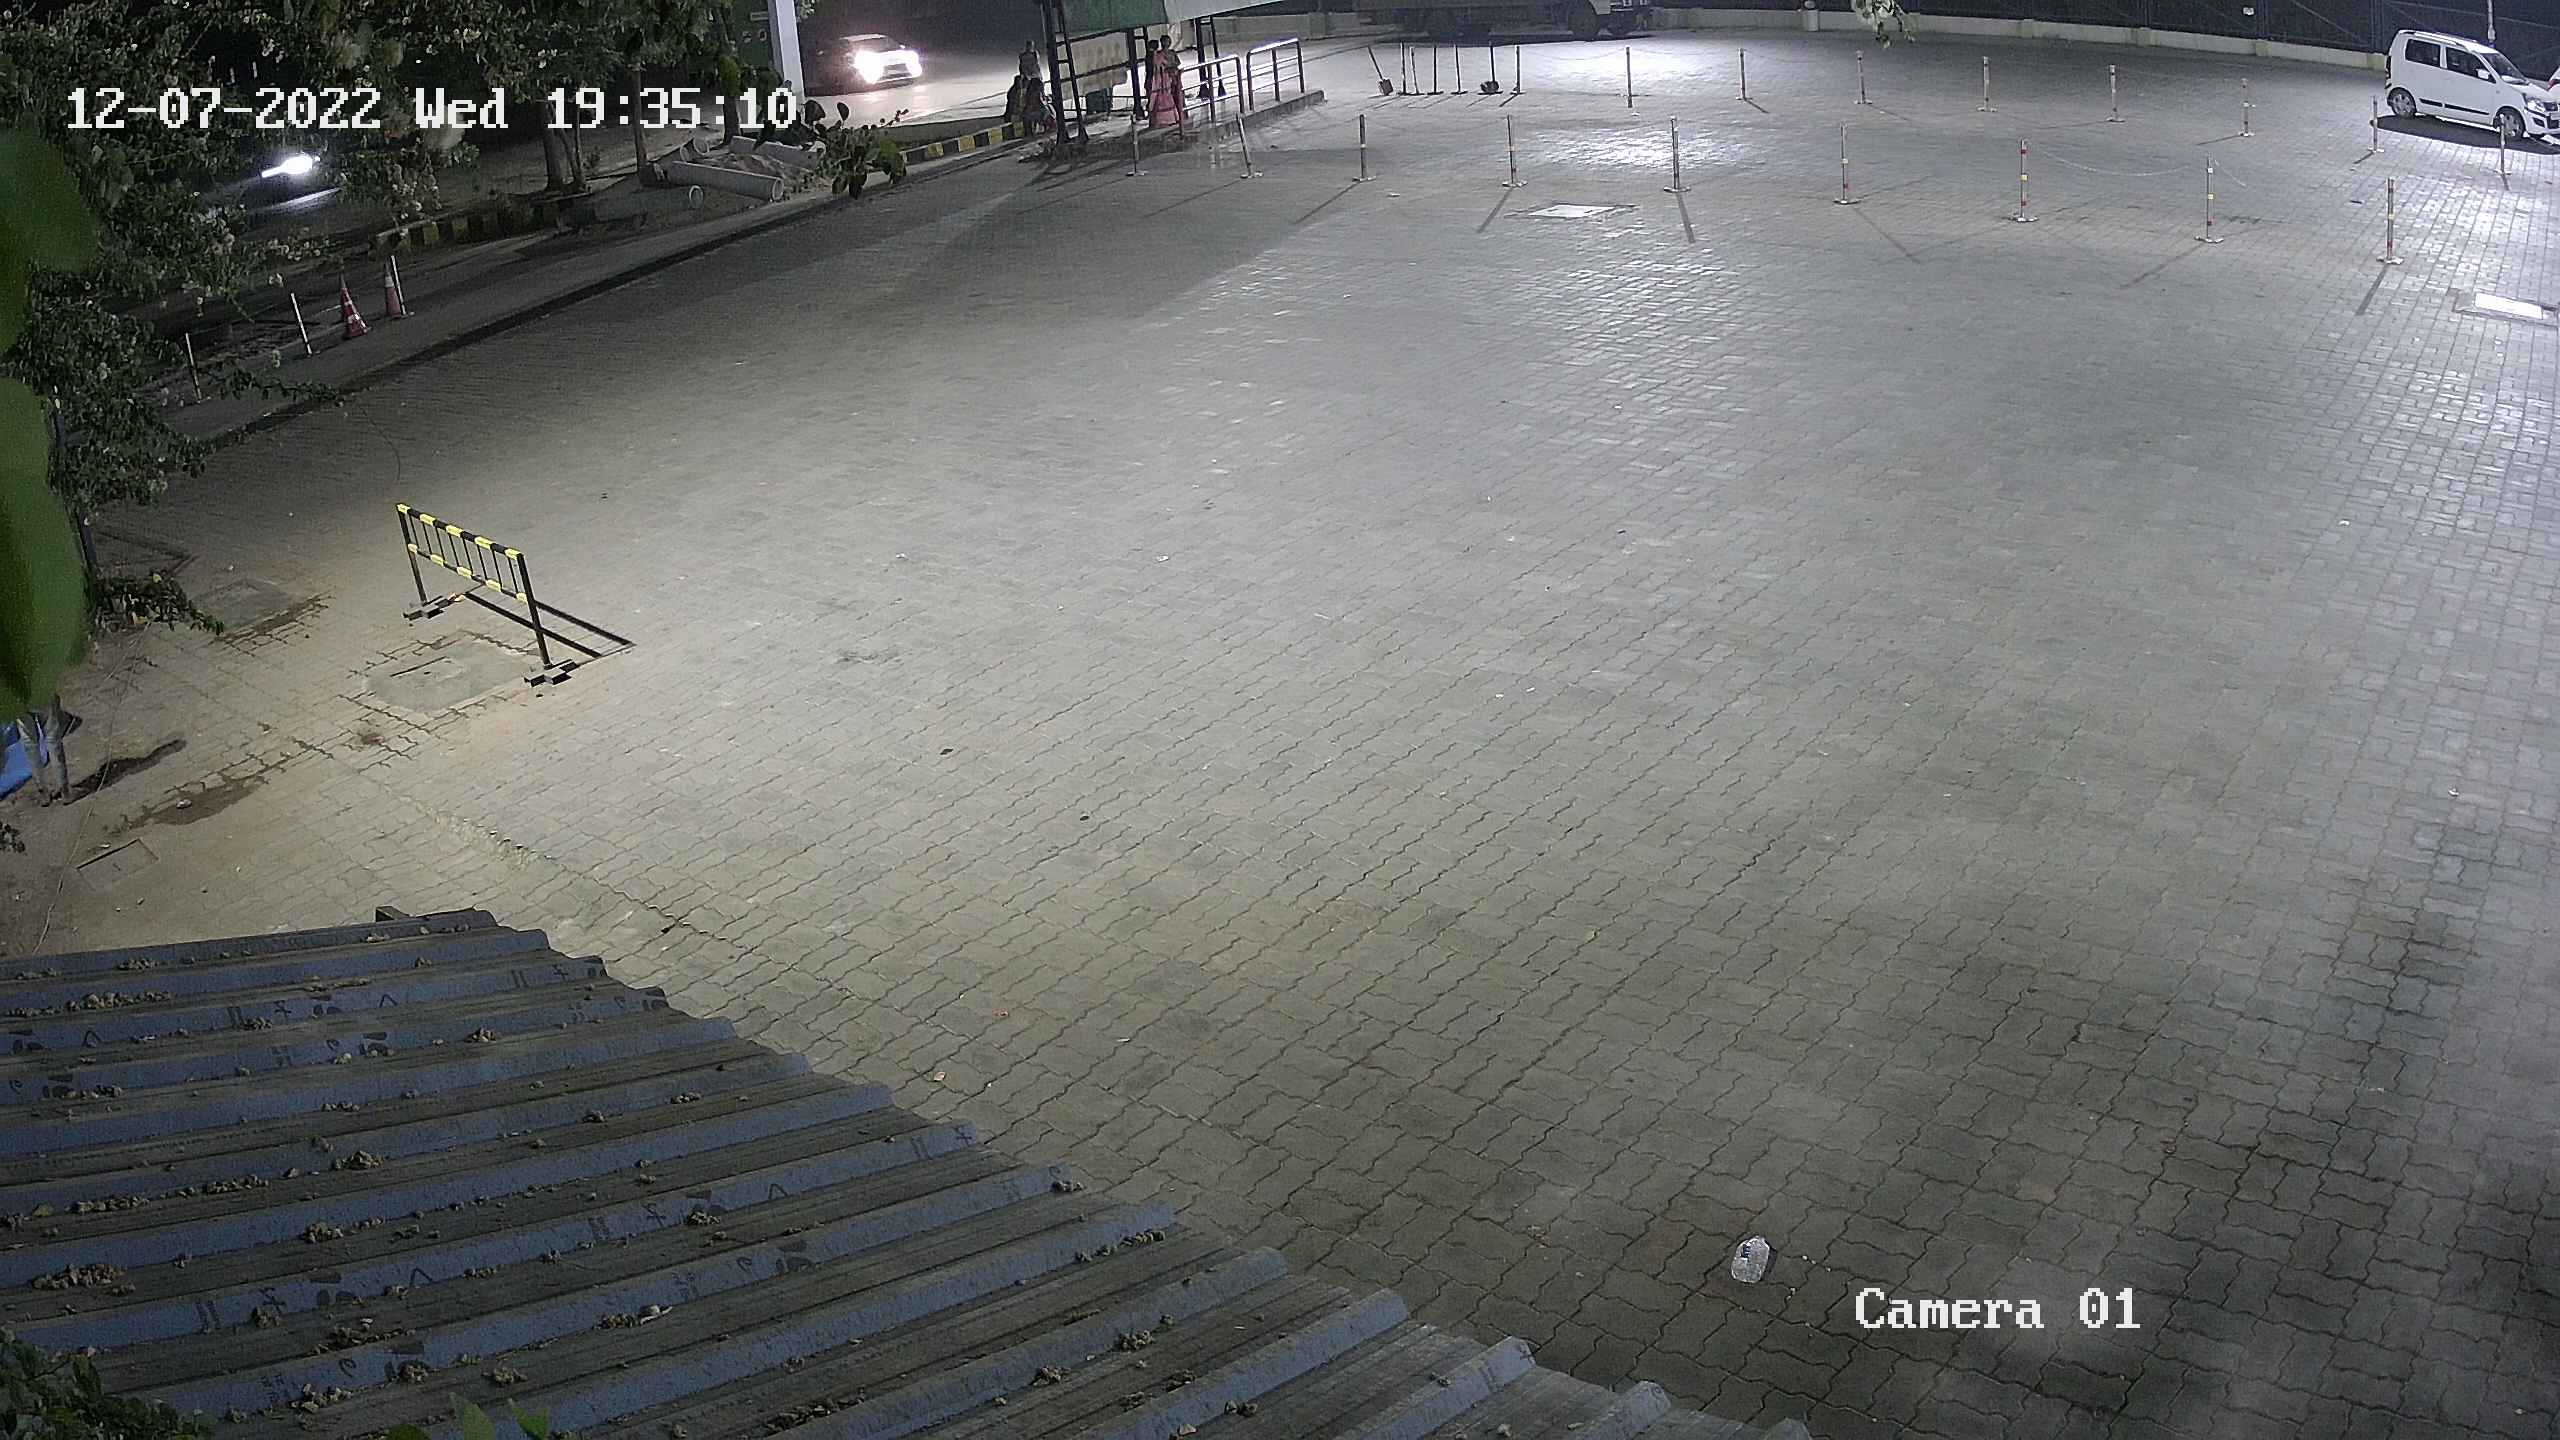Car: (2356, 7, 2555, 160), (795, 18, 944, 113), (2527, 26, 2558, 162)
HMV: (1326, 2, 1669, 51)
